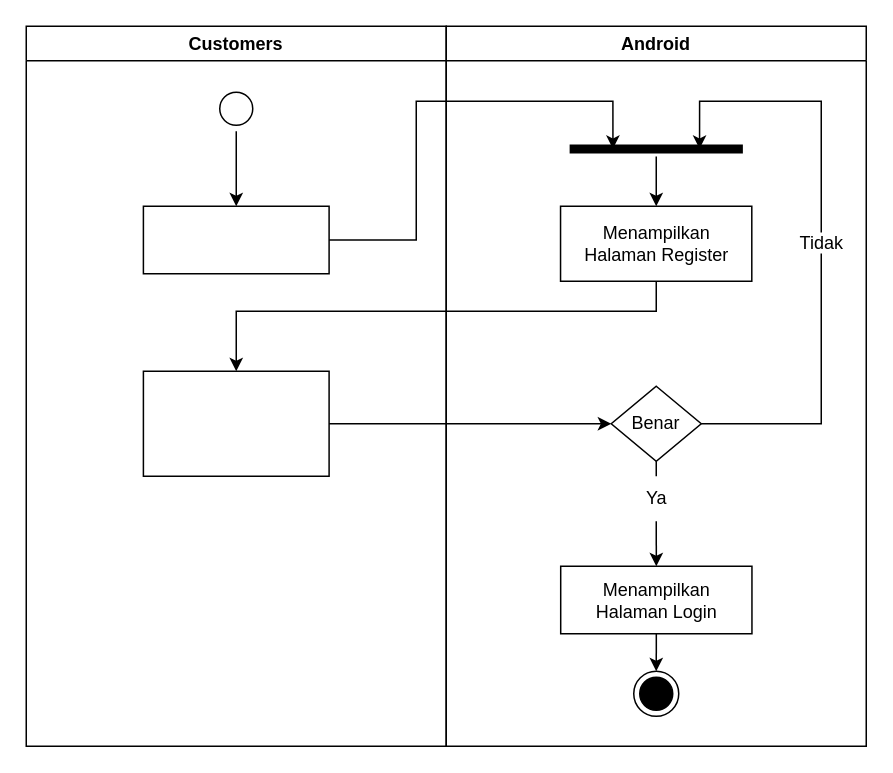
This 893x773 diagram has some shape labels left out. The shapes that lost their labels are listed below. From the top down, each one's centre as x and y in pixels, then its label:
At point (235, 239): "Akses Halaman Register".
At point (235, 423): "Input Nama, Email, Username, Password, Alamat, No. Hp".
